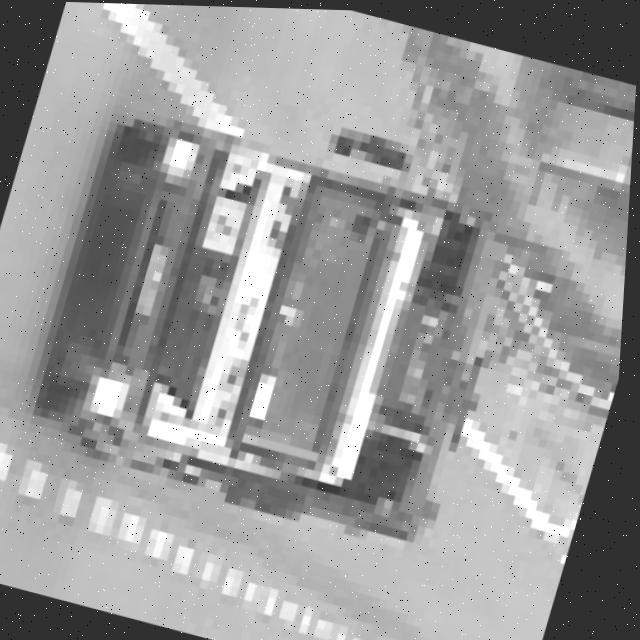truck: (29, 78, 555, 566)
